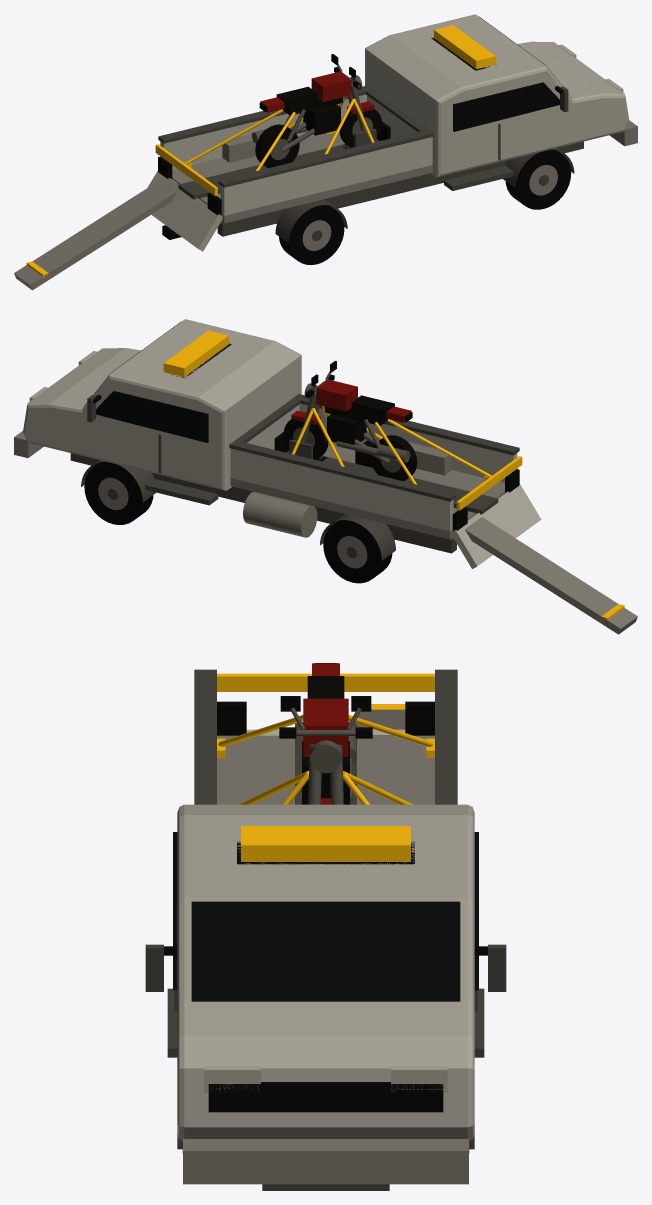
File: rollout-motorcycle-tow.obj
3 views of the same model, one above another, from view 1: azimuth 30°, elevation 25°; view 2: azimuth 150°, elevation 25°; view 3: azimuth 270°, elevation 25° (orthographic). The views are drawn at different scales.
Parts seen in each view (by area): view 1: cab_shell, bed_side_l, loading_ramp, bed_floor, frame_rail_r, cab_side_glass, tailgate, bed_side_r, wheel_rear_l_tire, wheel_front_l_tire, bed_rail_cap_l, light_bar (+19 smaller); view 2: cab_shell, bed_side_r, loading_ramp, bed_floor, cab_side_glass, tailgate, bed_side_l, fuel_tank, wheel_front_r_tire, wheel_rear_r_tire, bed_rail_cap_r, frame_rail_l (+19 smaller); view 3: cab_shell, windshield, front_bumper, bed_floor, grille, light_bar, rear_hazard_stripe, bed_rail_cap_l, bed_rail_cap_r, bike_tank, cab_side_glass, headlight_r (+12 smaller).
Part boxes in pixels (box(x1,y1,x2,y2)): cab_shell: box(365, 14, 629, 177); bed_side_l: box(220, 137, 432, 215); loading_ramp: box(14, 178, 178, 290); bed_floor: box(172, 131, 432, 223); frame_rail_r: box(217, 141, 583, 236); cab_side_glass: box(453, 82, 559, 131); tailgate: box(147, 171, 222, 251); bed_side_r: box(160, 94, 366, 169); wheel_rear_l_tire: box(279, 205, 344, 264); wheel_front_l_tire: box(505, 149, 571, 209); bed_rail_cap_l: box(218, 131, 433, 187); light_bar: box(434, 25, 495, 69); cab_shell: box(23, 319, 301, 490); bed_side_r: box(230, 448, 453, 531); loading_ramp: box(465, 513, 637, 634); bed_floor: box(230, 442, 504, 539); cab_side_glass: box(96, 391, 208, 442); tailgate: box(451, 484, 541, 568); bed_side_l: box(299, 403, 517, 482); fuel_tank: box(243, 491, 317, 537); wheel_front_r_tire: box(84, 461, 153, 524); wheel_rear_r_tire: box(323, 520, 392, 583); bed_rail_cap_r: box(229, 441, 456, 501); frame_rail_l: box(70, 453, 456, 553); cab_shell: box(177, 804, 474, 1140); windshield: box(191, 901, 460, 1001); front_bumper: box(183, 1138, 468, 1184); bed_floor: box(217, 735, 434, 804); grille: box(208, 1082, 443, 1112); light_bar: box(241, 826, 410, 861); rear_hazard_stripe: box(217, 673, 434, 691); bed_rail_cap_l: box(194, 669, 216, 804); bed_rail_cap_r: box(435, 669, 457, 804); bike_tank: box(303, 698, 348, 756); cab_side_glass: box(173, 832, 478, 990); headlight_r: box(391, 1066, 447, 1092).
Bounding box in the file's own units: 9.21 × 2.51 × 2.55.
